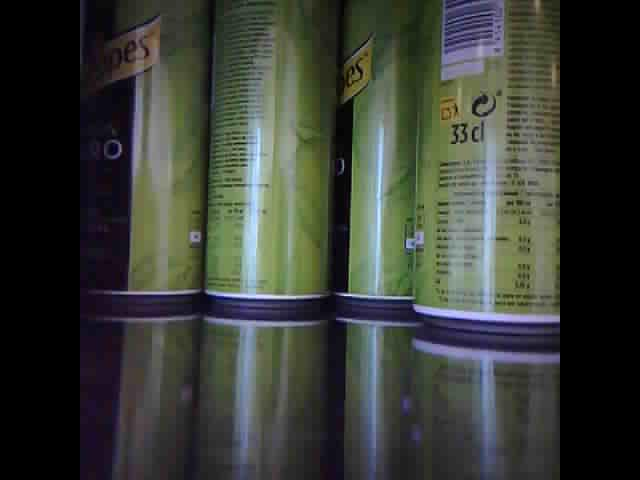schweppes: (411, 1, 560, 331), (202, 6, 333, 308), (103, 1, 203, 302), (332, 1, 415, 314)
